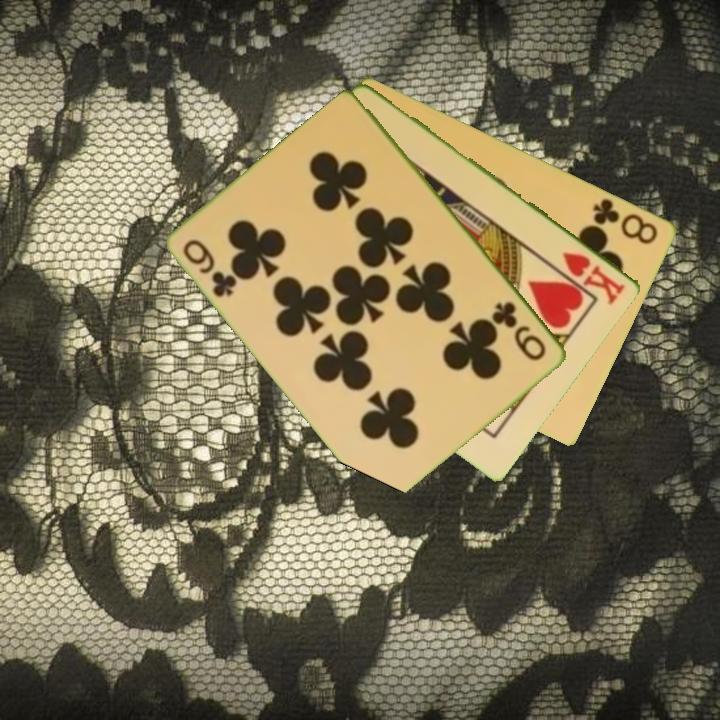8c: (590, 194, 662, 247)
9c: (179, 235, 241, 301), (490, 298, 550, 364)
Kh: (559, 248, 629, 307)
